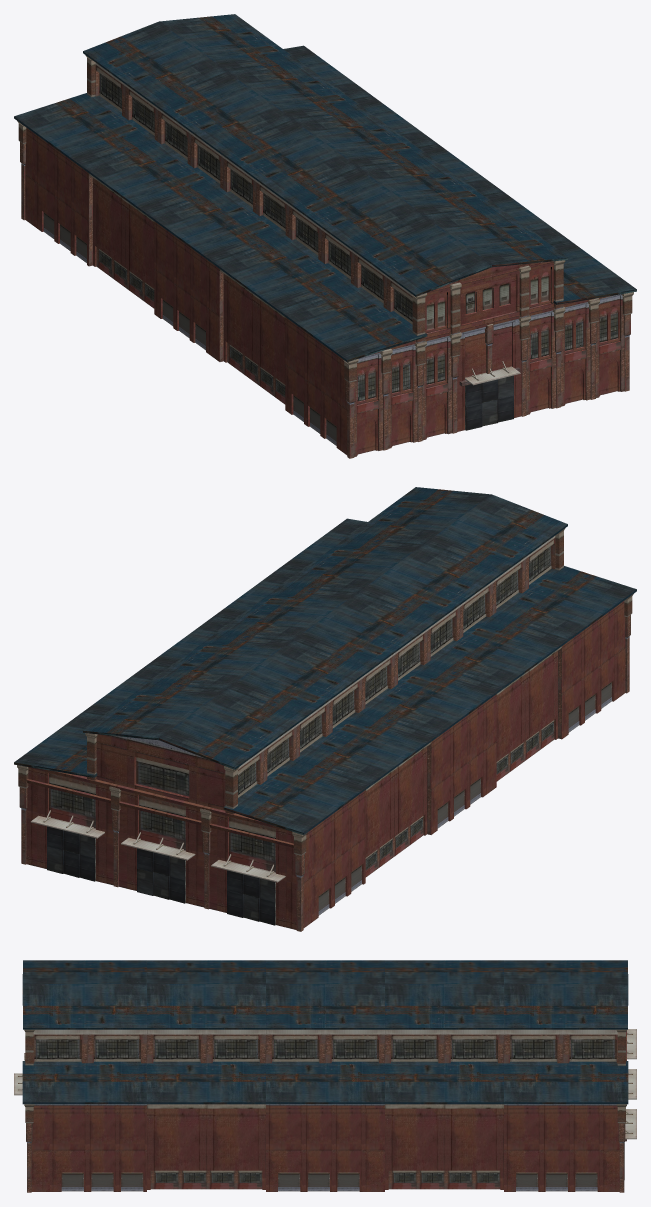
Rendered from hall_factory_1.glb.
The picture shows the model from 3 angles, top to bottom: view 1: azimuth 30°, elevation 25°; view 2: azimuth 150°, elevation 25°; view 3: azimuth 270°, elevation 25°; orthographic projection. The views are drawn at different scales.
Parts seen in each view (by area): view 1: hall_factory_1; view 2: hall_factory_1; view 3: hall_factory_1.
Boxes of the visible parts, x1=… form: hall_factory_1: x1=14, y1=14, x2=636, y2=458; hall_factory_1: x1=14, y1=487, x2=636, y2=931; hall_factory_1: x1=14, y1=960, x2=636, y2=1192.
Bounding box in the file's own units: 3.42 × 1.82 × 7.
2 materials, 2 textured.
